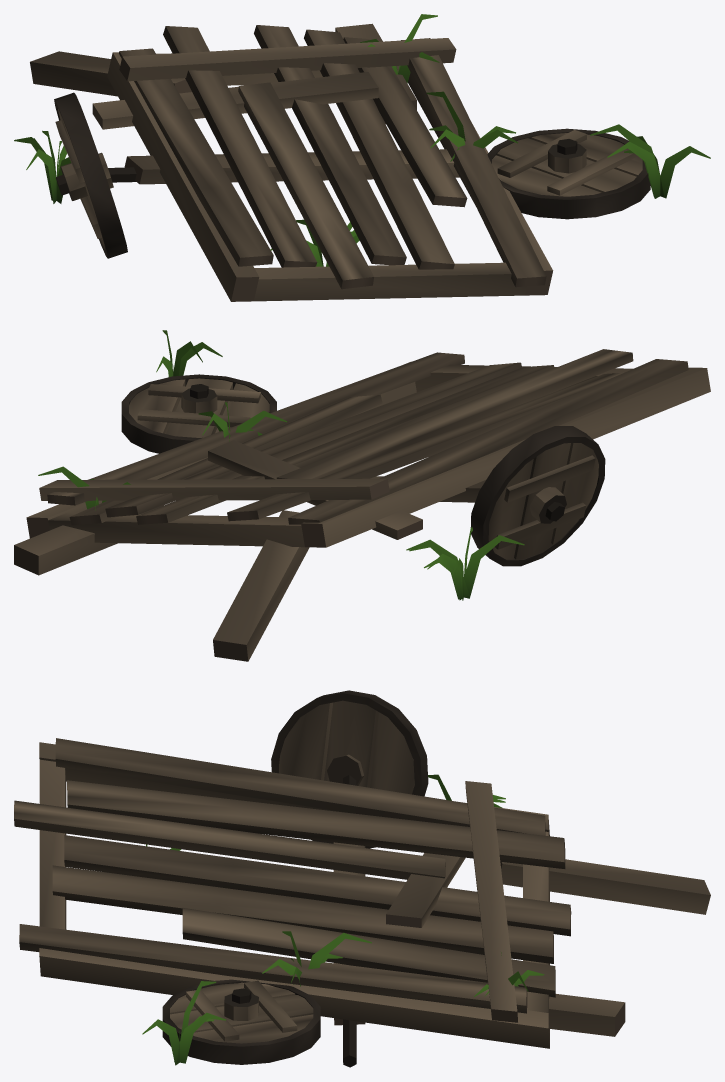
File: Aracart05.glb
3 renders of one model, top to bottom at view 1: azimuth 30°, elevation 25°; view 2: azimuth 150°, elevation 25°; view 3: azimuth 270°, elevation 25°, orthographic. The views are drawn at different scales.
Visible parts, largest first — view 1: Aracart05; view 2: Aracart05; view 3: Aracart05.
Boxes of the visible parts, x1,y1,x2,y2 form: Aracart05: [14, 14, 710, 301]; Aracart05: [14, 330, 710, 661]; Aracart05: [14, 690, 710, 1067].
Size of the model in its own units: 3.91 by 1.21 by 4.51.
